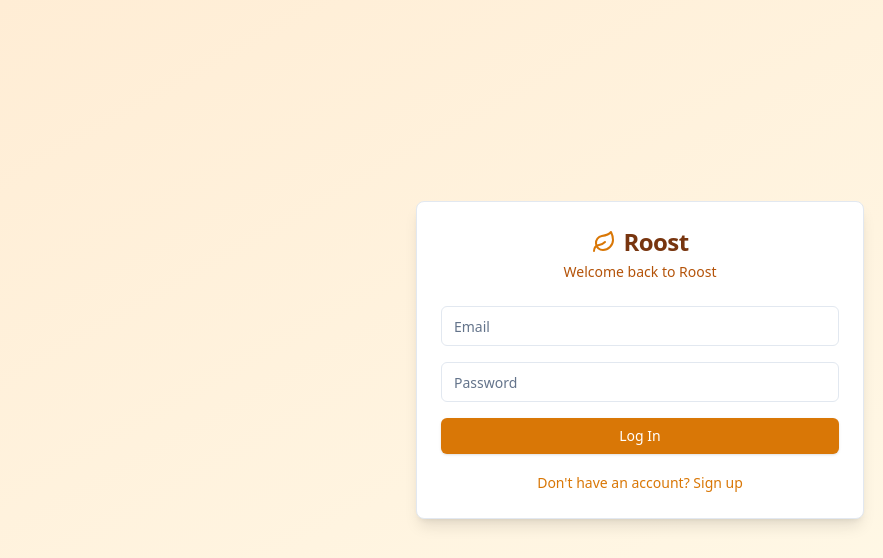
LoginPage › should show validation error for empty email submission
Type "password123" into the password field with placeholder "Password" at point(640, 382), box [441,362,839,402]
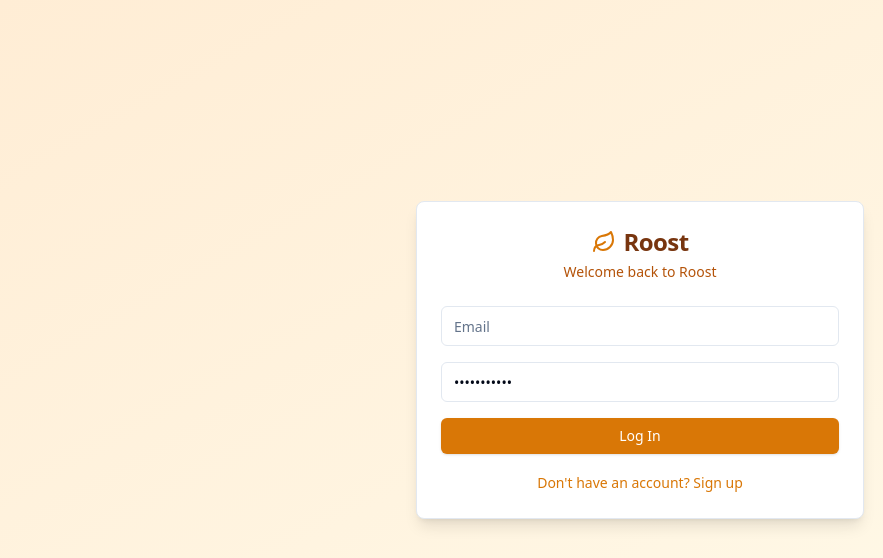
Click the button "Log In" at point(640, 436), box [441,418,839,454]
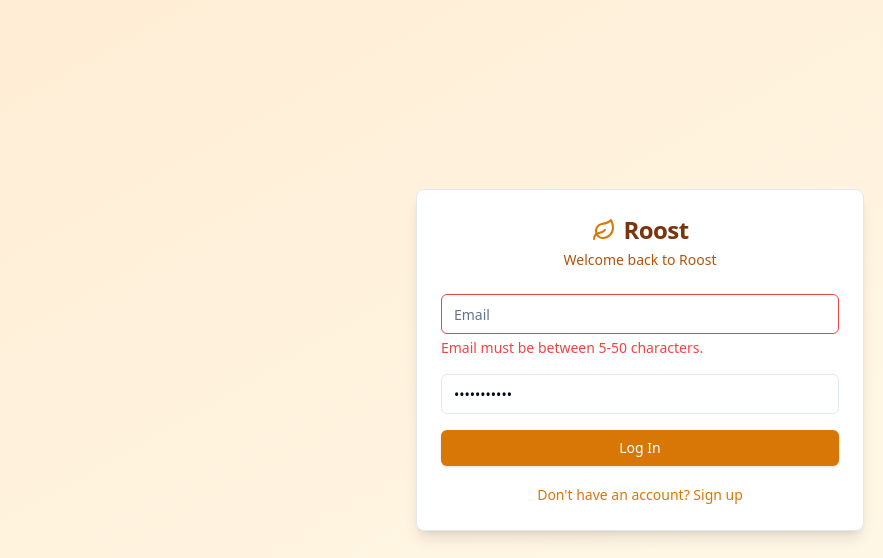
Expected: the text "Email must be between 5-50 characters." is shown, [441,338,703,357]
